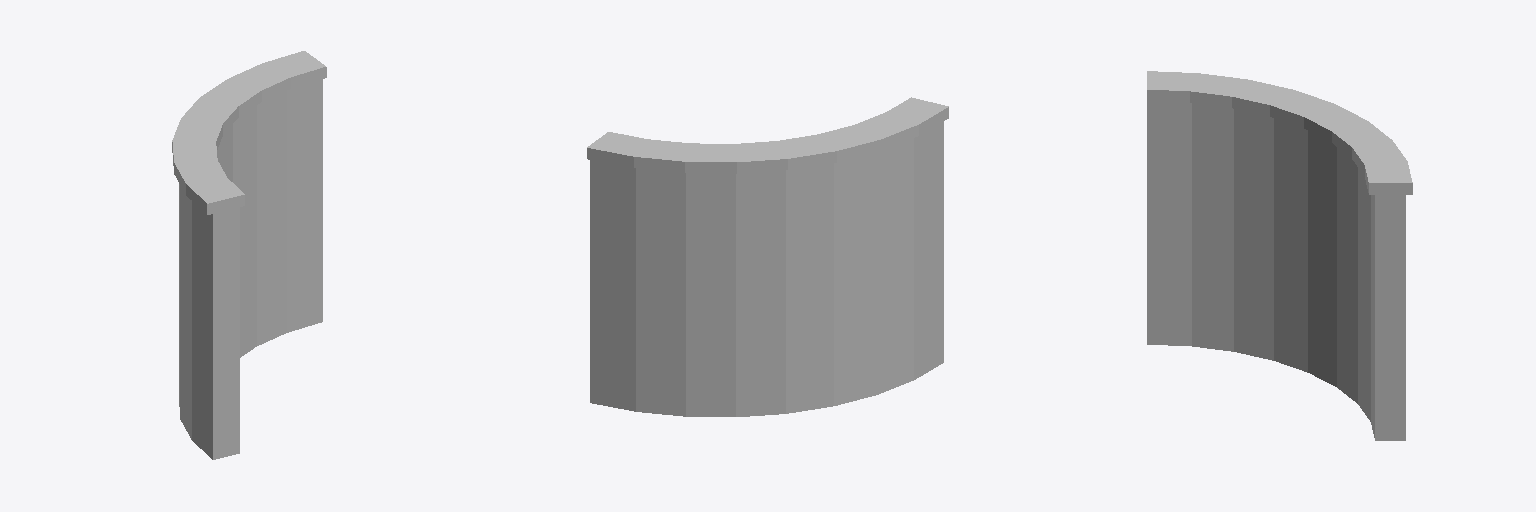
Rendered from Wall_Curver_Large.obj.
3 renders of one model, left to right at view 1: azimuth 30°, elevation 25°; view 2: azimuth 150°, elevation 25°; view 3: azimuth 270°, elevation 25°, orthographic.
Visible parts, largest first — view 1: Wall_corner_3; view 2: Wall_corner_3; view 3: Wall_corner_3.
Part boxes in pixels (x1,y1,x2,y2): Wall_corner_3: (172,51,326,459); Wall_corner_3: (587,97,948,416); Wall_corner_3: (1147,71,1412,440).
Bounding box in the file's own units: 2.8 × 2.99 × 2.8.